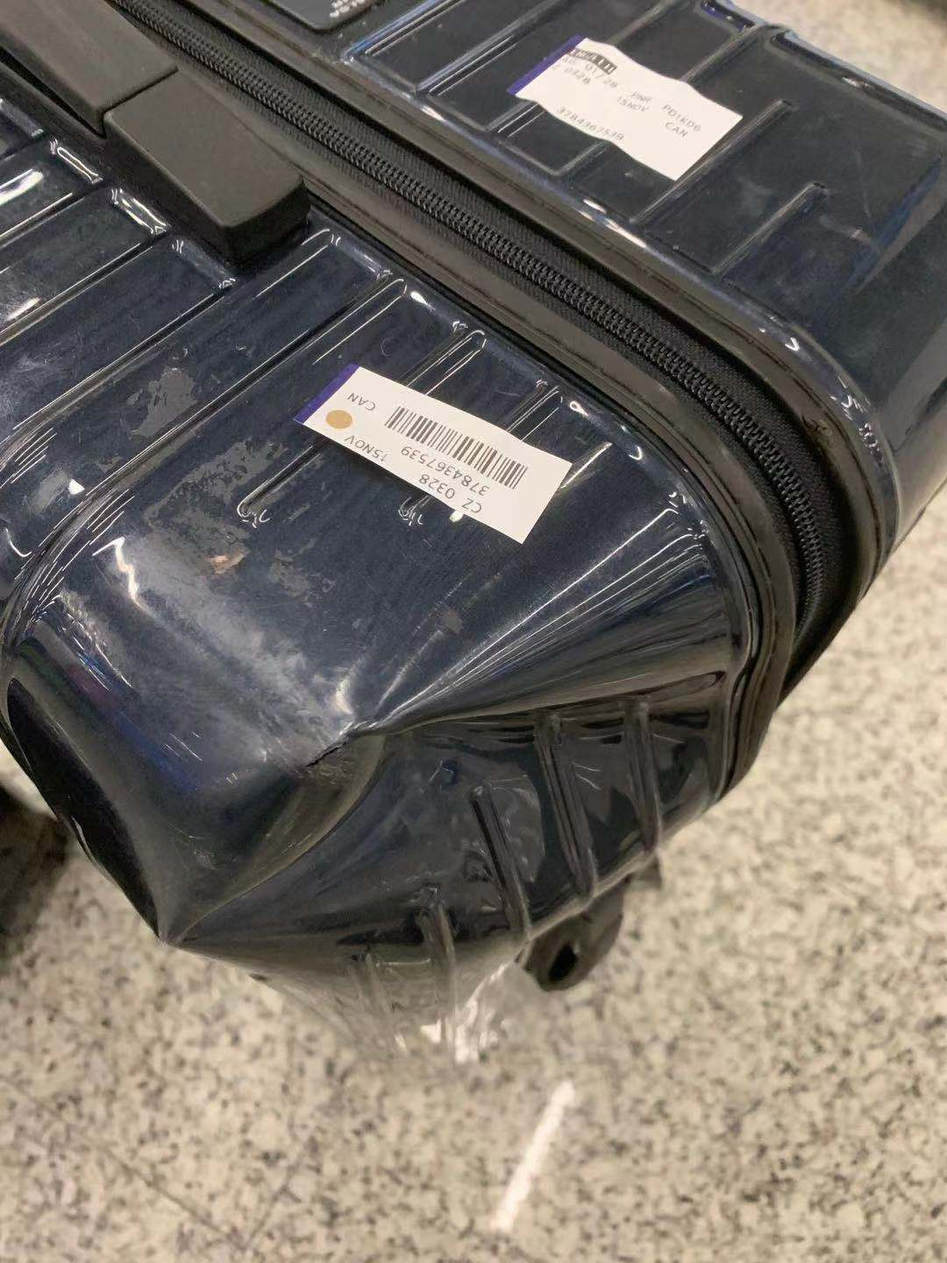hollow: (166, 596, 754, 952)
